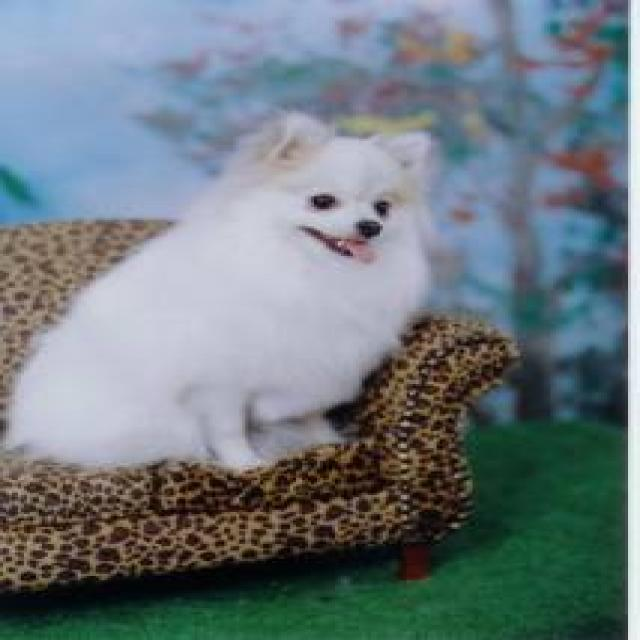dog-pomeranian: (3, 115, 437, 467)
